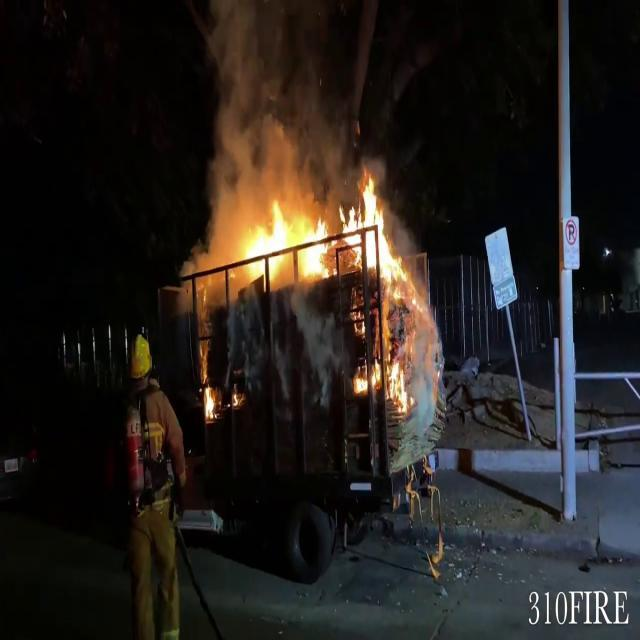Fire: (345, 169, 417, 414), (235, 192, 332, 287), (200, 378, 217, 426)
Smoke: (192, 0, 348, 204)
